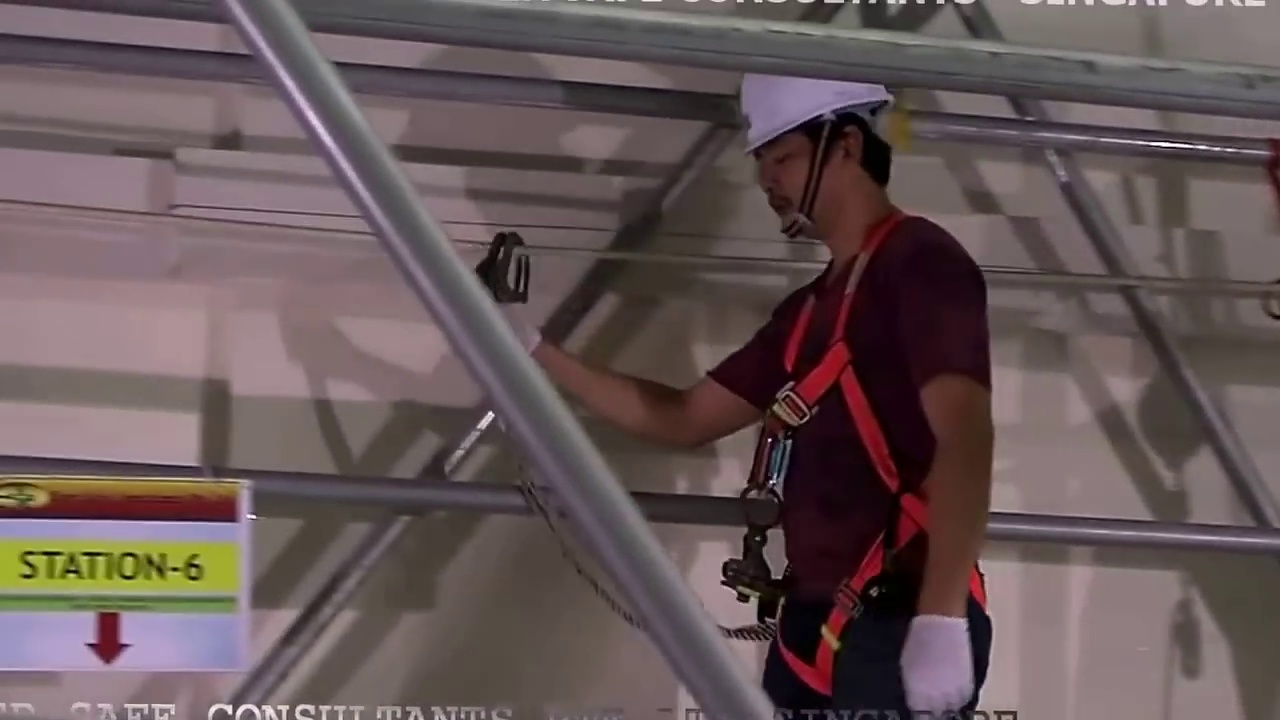harness: (772, 291, 905, 675)
helmet: (744, 75, 885, 136)
hook: (466, 214, 538, 307)
leash: (519, 501, 617, 612)
